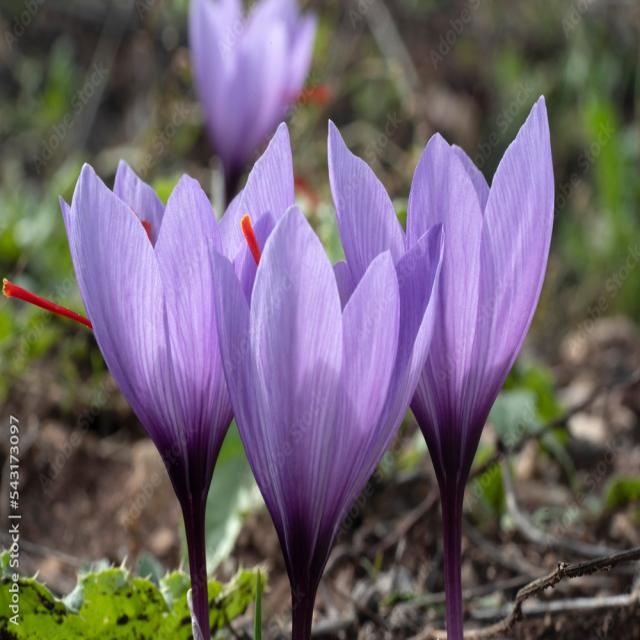saffron open: (61, 124, 294, 639), (211, 206, 442, 639), (406, 97, 554, 639), (189, 0, 316, 202)
